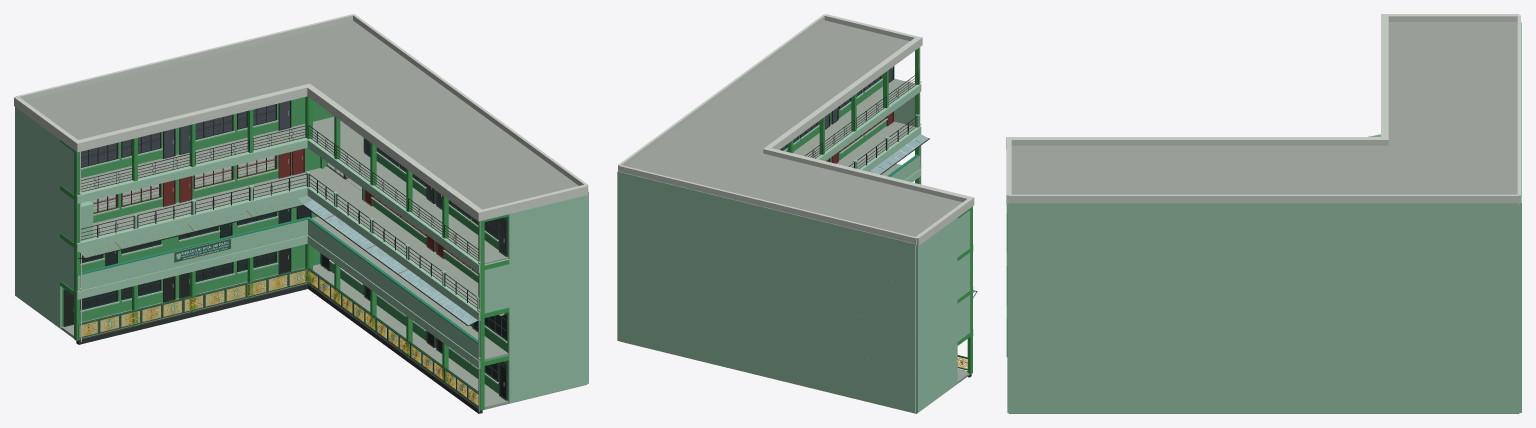
Rendered from gedung_perkuliahan_outdoor.glb.
The picture shows the model from 3 angles, left to right: view 1: azimuth 30°, elevation 25°; view 2: azimuth 150°, elevation 25°; view 3: azimuth 270°, elevation 25°; orthographic projection. The views are drawn at different scales.
Parts seen in each view (by area): view 1: Pelat_4_Sayap_B, Pelat_4_Sayap_A, Pelat_4_Sudut, Pelat_2_Sayap_A, B_L0_Dinding_ujung_ruang, B_L1_Dinding_ujung_ruang, B_L2_Dinding_ujung_ruang, B_L3_Dinding_ujung_ruang, Pelat_3_B_lubang_tangga_0, A_L1_Parapet_padat, Pelat_0_Sayap_B, Pelat_2_B_lubang_tangga_0 (+40 smaller); view 2: Sudut_Dinding_belakang_Y, Pelat_4_Sayap_B, Pelat_4_Sayap_A, A_L3_Dinding_luar_belakang, A_L1_Dinding_luar_belakang, A_L0_Dinding_luar_belakang, A_L2_Dinding_luar_belakang, Pelat_4_Sudut, Lis_atap_A_belakang, B_Lis_atap, Pelat_3_B_lubang_tangga_0, A_L1_Dinding_ujung_ruang (+15 smaller); view 3: Sudut_Dinding_belakang_X, B_L0_Dinding_luar_belakang, B_L2_Dinding_luar_belakang, B_L3_Dinding_luar_belakang, B_L1_Dinding_luar_belakang, Pelat_4_Sayap_B, Pelat_4_Sayap_A, Pelat_4_Sudut, Lis_atap_B_belakang, B_Lis_atap, Lis_atap_A_ujung, A_Lis_atap (+2 smaller).
Boxes of the visible parts, bbox=[...] form: Pelat_4_Sayap_B: bbox=[317, 65, 578, 209]; Pelat_4_Sayap_A: bbox=[24, 46, 301, 139]; Pelat_4_Sudut: bbox=[248, 20, 413, 88]; Pelat_2_Sayap_A: bbox=[90, 157, 306, 237]; B_L0_Dinding_ujung_ruang: bbox=[508, 336, 587, 403]; B_L1_Dinding_ujung_ruang: bbox=[508, 288, 587, 355]; B_L2_Dinding_ujung_ruang: bbox=[509, 240, 587, 307]; B_L3_Dinding_ujung_ruang: bbox=[508, 195, 587, 259]; Pelat_3_B_lubang_tangga_0: bbox=[340, 152, 508, 264]; A_L1_Parapet_padat: bbox=[77, 219, 307, 291]; Pelat_0_Sayap_B: bbox=[312, 276, 586, 409]; Pelat_2_B_lubang_tangga_0: bbox=[339, 200, 478, 307]; Sudut_Dinding_belakang_Y: bbox=[617, 171, 711, 363]; Pelat_4_Sayap_B: bbox=[674, 20, 909, 151]; Pelat_4_Sayap_A: bbox=[718, 154, 962, 236]; A_L3_Dinding_luar_belakang: bbox=[711, 194, 915, 286]; A_L1_Dinding_luar_belakang: bbox=[711, 279, 915, 370]; A_L0_Dinding_luar_belakang: bbox=[711, 321, 915, 413]; A_L2_Dinding_luar_belakang: bbox=[711, 237, 915, 328]; Pelat_4_Sudut: bbox=[626, 130, 764, 188]; Lis_atap_A_belakang: bbox=[618, 165, 916, 245]; B_Lis_atap: bbox=[763, 37, 922, 152]; Pelat_3_B_lubang_tangga_0: bbox=[793, 78, 915, 158]; A_L1_Dinding_ujung_ruang: bbox=[916, 299, 957, 370]; Sudut_Dinding_belakang_X: bbox=[1383, 203, 1517, 413]; B_L0_Dinding_luar_belakang: bbox=[1007, 360, 1383, 413]; B_L2_Dinding_luar_belakang: bbox=[1007, 255, 1383, 308]; B_L3_Dinding_luar_belakang: bbox=[1007, 202, 1383, 255]; B_L1_Dinding_luar_belakang: bbox=[1007, 308, 1383, 360]; Pelat_4_Sayap_B: bbox=[1011, 145, 1384, 194]; Pelat_4_Sayap_A: bbox=[1388, 22, 1517, 144]; Pelat_4_Sudut: bbox=[1385, 144, 1517, 194]; Lis_atap_B_belakang: bbox=[1009, 194, 1519, 205]; B_Lis_atap: bbox=[1006, 137, 1387, 149]; Lis_atap_A_ujung: bbox=[1385, 14, 1519, 21]; A_Lis_atap: bbox=[1381, 14, 1388, 145].
Size of the model in its own units: 25.67 by 14.56 by 30.71.
34 materials, 1 textured.
